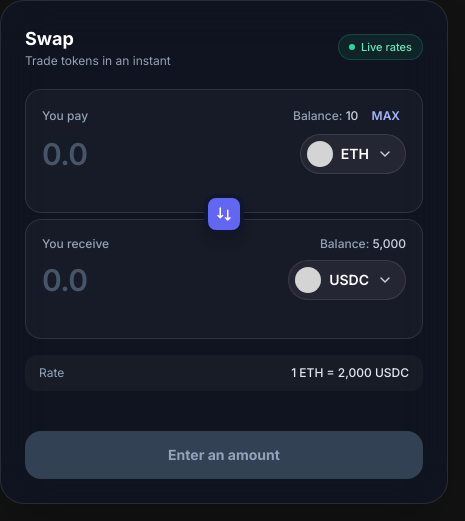
Scenario: SwapForm › shows an inline error and disables submit for invalid amount -5
In the field named "You pay amount": point(165, 154) [42,136,288,172], type "-5"
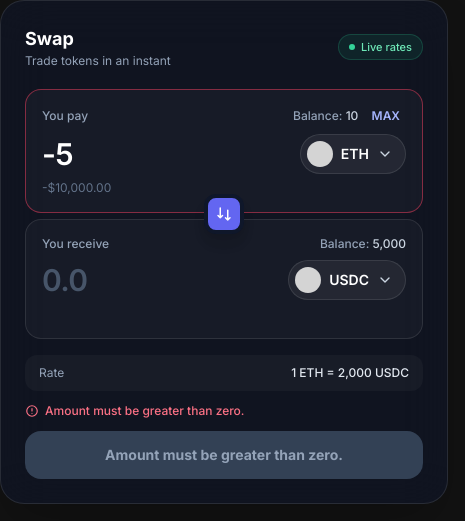
Expected: the button "Amount must be greater than zero." is disabled, [25,431,423,479]
Expected: the text "Amount must be greater than zero." is shown, [25,403,244,418]
